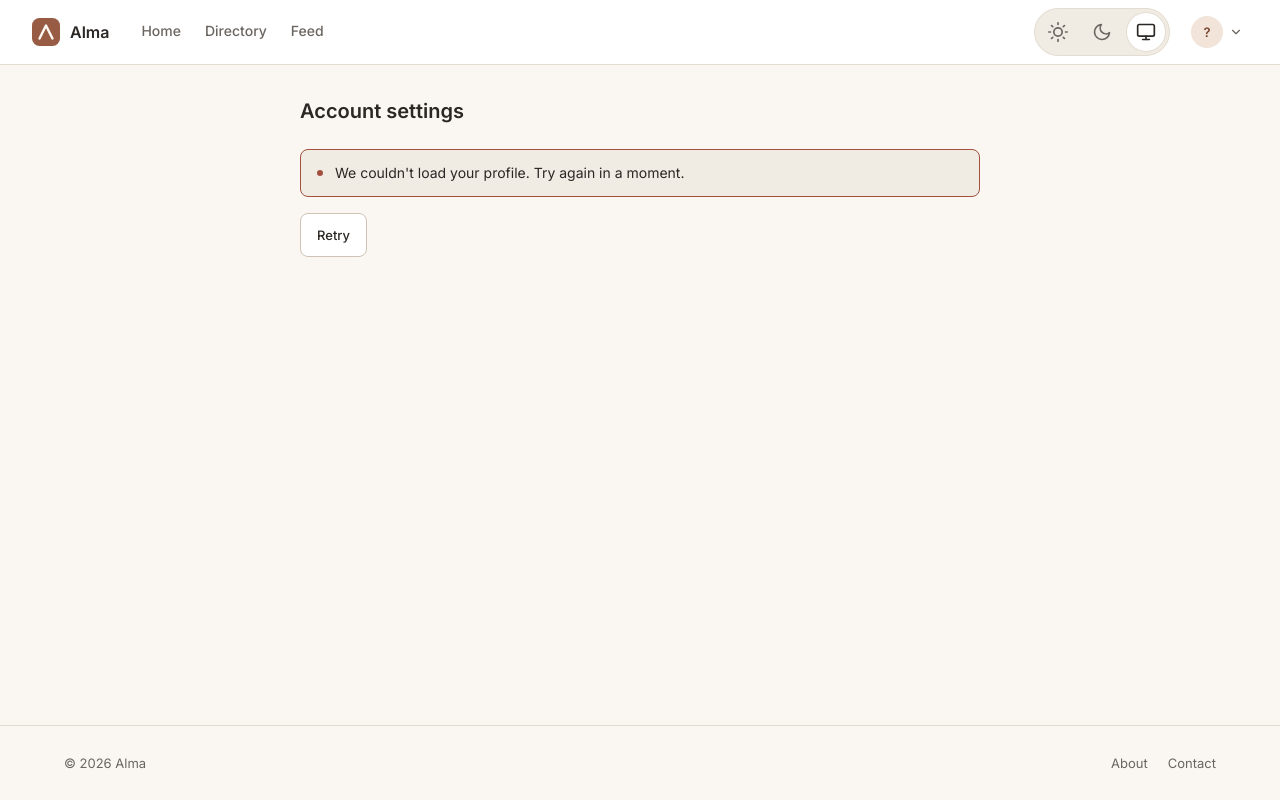
Test case: MePage loading and error views › shows the load error with Retry on a 500, and Retry loads the form
Expected: the text "We couldn't load your profile. Try again in a moment." is shown, [335, 162, 684, 184]
Expected: the field labelled "Full name" is not shown
Click the button "Retry" at point(334, 235), box [300, 213, 367, 257]
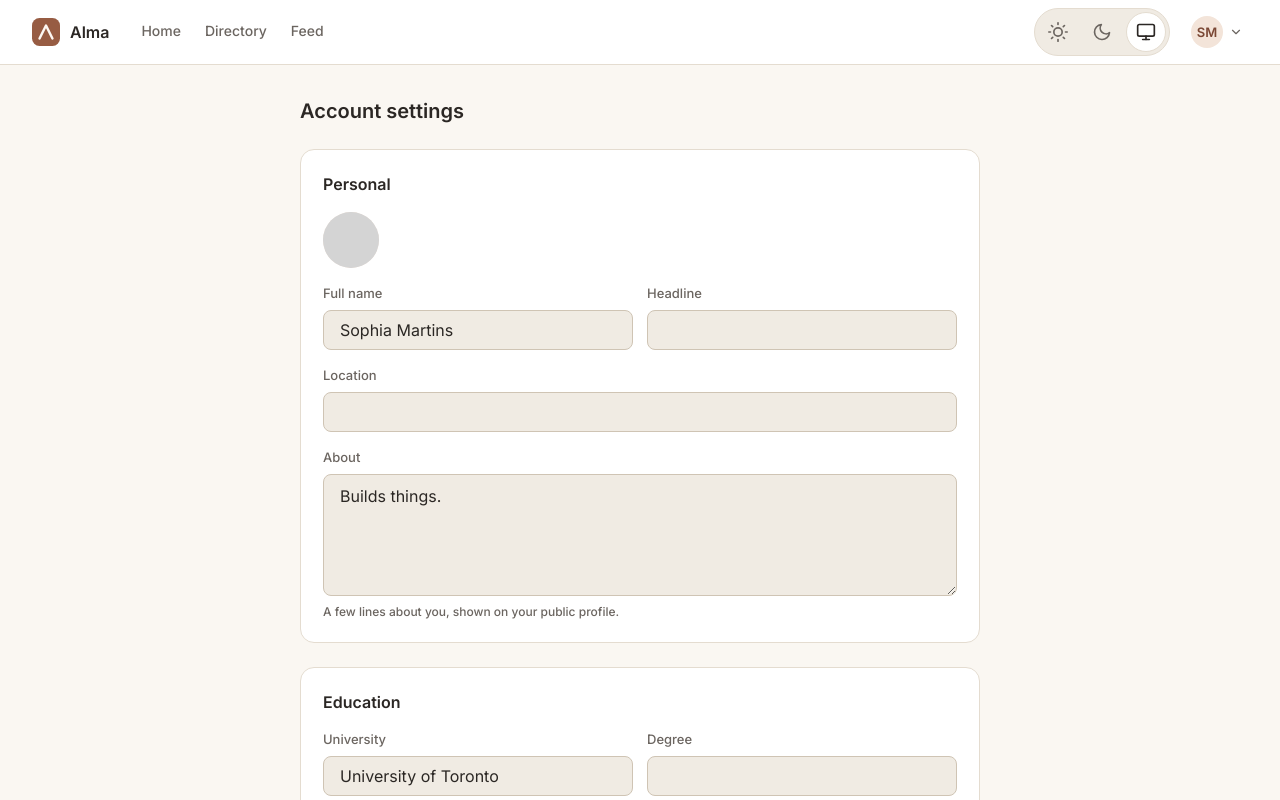
Result: the field labelled "Full name" holds "Sophia Martins" at [323, 310, 633, 350]
Result: the text "We couldn't load your profile. Try again in a moment." is gone
